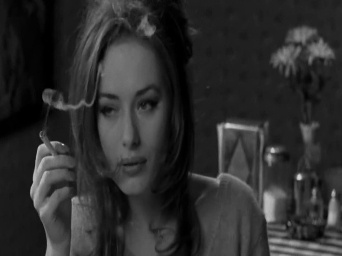smoke: (40, 129, 60, 159)
